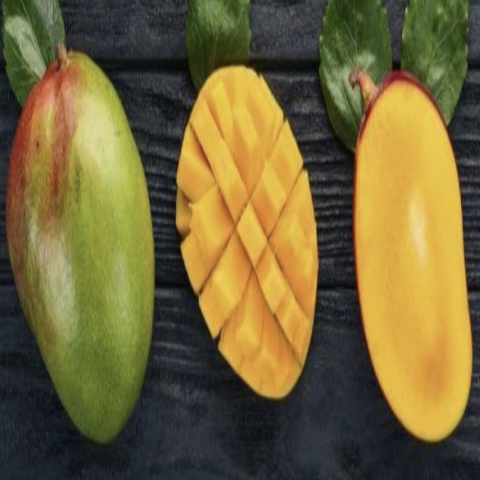mango: (0, 29, 163, 462), (168, 63, 322, 457), (338, 49, 480, 452)
